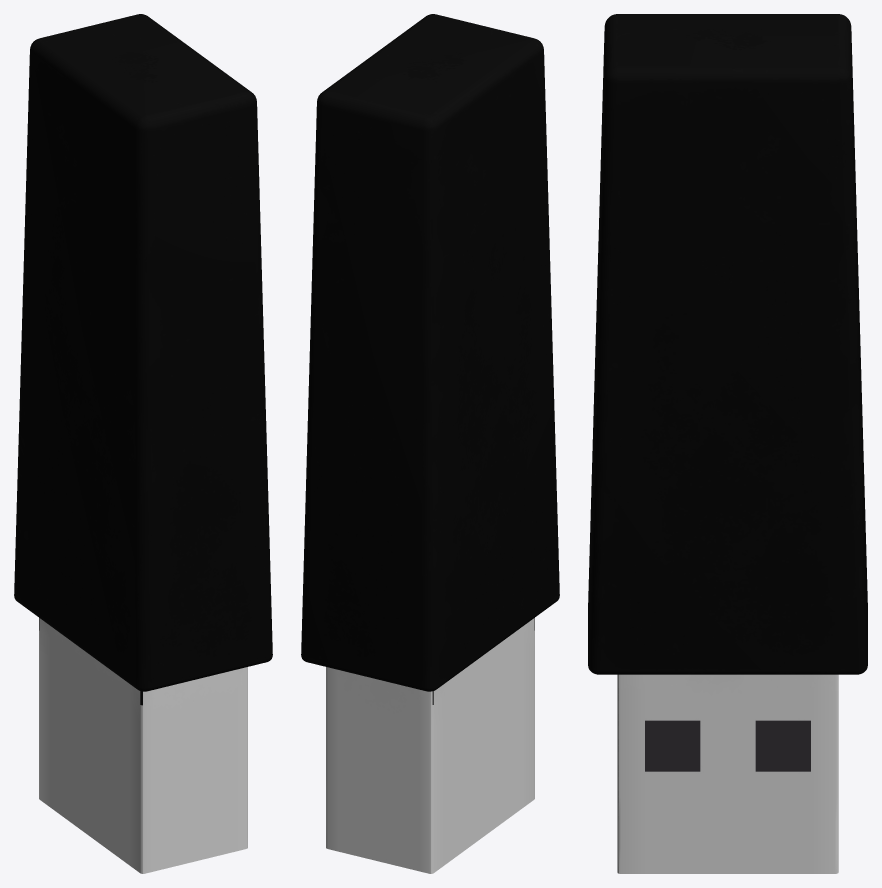
Rendered from usb_stick_xbox_substance_painter.glb.
The picture shows the model from 3 angles, left to right: view 1: azimuth 30°, elevation 25°; view 2: azimuth 150°, elevation 25°; view 3: azimuth 270°, elevation 25°; orthographic projection. The views are drawn at different scales.
Parts seen in each view (by area): view 1: Cube; view 2: Cube; view 3: Cube, Cube.001.
Part boxes in pixels (x1=…): Cube: x1=14, y1=14, x2=272, y2=873; Cube: x1=301, y1=14, x2=559, y2=873; Cube: x1=588, y1=14, x2=867, y2=873; Cube.001: x1=645, y1=720, x2=810, y2=771.
Bounding box in the file's own units: 119 × 634 × 200.
3 materials, 3 textured.
